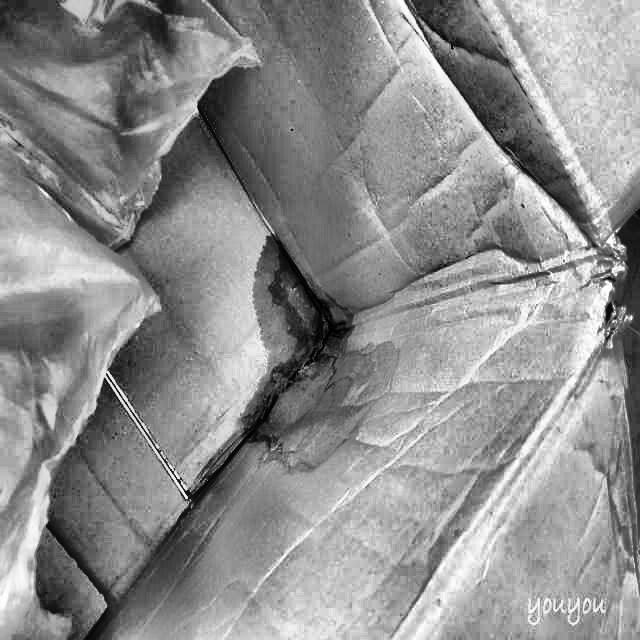box: (0, 0, 640, 640)
wet: (224, 226, 400, 466)
